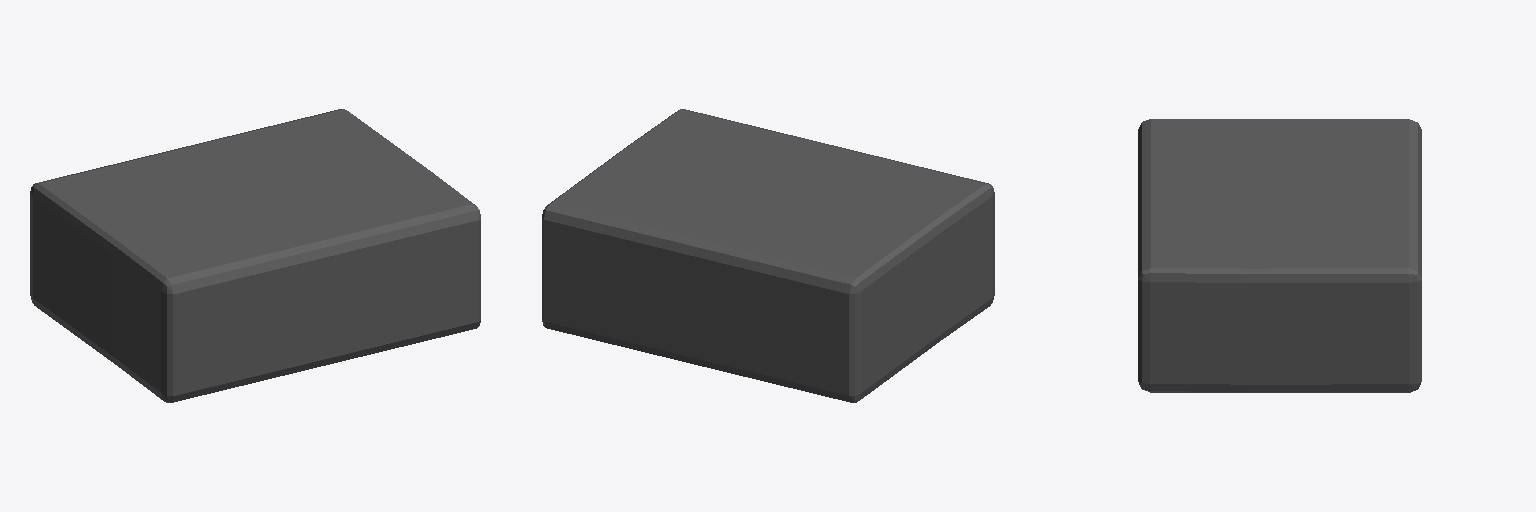
The model's file is slab_stone.obj.
The picture shows the model from 3 angles: view 1: azimuth 30°, elevation 25°; view 2: azimuth 150°, elevation 25°; view 3: azimuth 270°, elevation 25°; orthographic projection.
Visible parts, largest first — view 1: slab_stone; view 2: slab_stone; view 3: slab_stone.
Boxes of the visible parts, box(x1,y1,x2,y2) form: slab_stone: box(30, 109, 480, 402); slab_stone: box(542, 109, 994, 402); slab_stone: box(1138, 119, 1421, 392).
Bounding box in the file's own units: 1.63 × 0.6086 × 1.26.